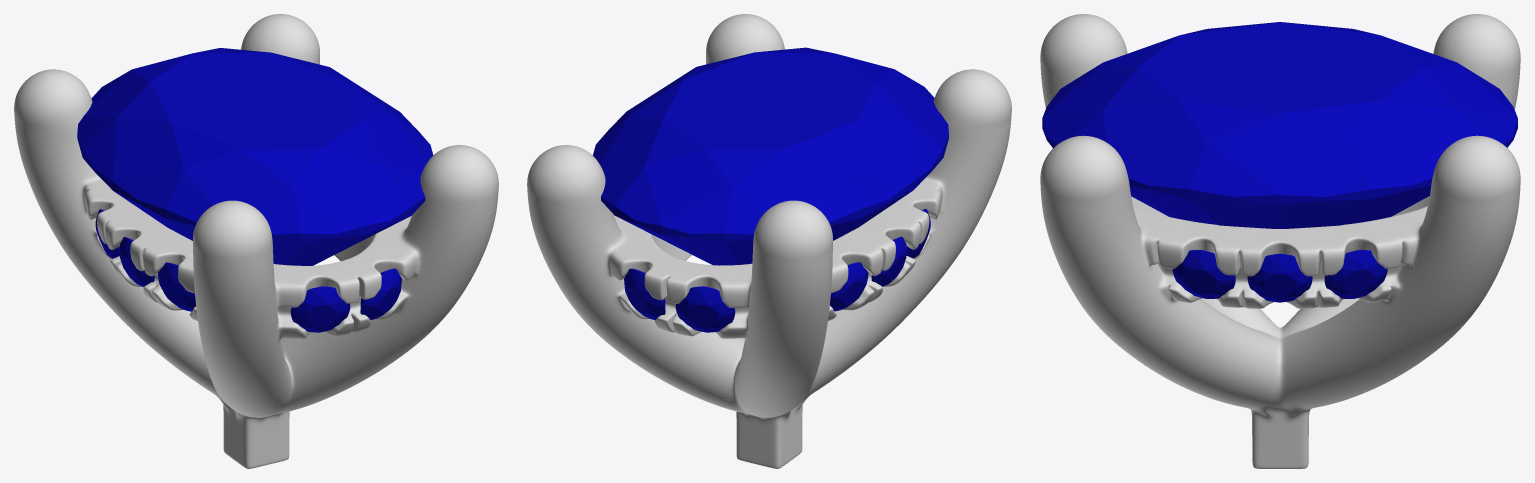
File: Oval.glb
3 renders of one model, left to right at view 1: azimuth 30°, elevation 25°; view 2: azimuth 150°, elevation 25°; view 3: azimuth 270°, elevation 25°, orthographic. The views are drawn at different scales.
Parts seen in each view (by area): view 1: /GSMOD388300-HIDDEN HALO_OVAL_IJ.3dm, Diamond_Oval, Diamond_Round (×4); view 2: /GSMOD388300-HIDDEN HALO_OVAL_IJ.3dm, Diamond_Oval, Diamond_Round (×4); view 3: /GSMOD388300-HIDDEN HALO_OVAL_IJ.3dm, Diamond_Oval, Diamond_Round (×3).
Boxes of the visible parts, x1,y1,x2,y2 form: /GSMOD388300-HIDDEN HALO_OVAL_IJ.3dm: (14, 14, 498, 468); Diamond_Oval: (77, 48, 433, 265); Diamond_Round (×4): (119, 237, 401, 332); /GSMOD388300-HIDDEN HALO_OVAL_IJ.3dm: (527, 14, 1011, 468); Diamond_Oval: (593, 47, 948, 265); Diamond_Round (×4): (624, 236, 906, 332); /GSMOD388300-HIDDEN HALO_OVAL_IJ.3dm: (1040, 14, 1520, 468); Diamond_Oval: (1042, 22, 1517, 228); Diamond_Round (×3): (1172, 250, 1387, 302).
Bounding box in the file's own units: 6.95 × 7.98 × 8.91.
